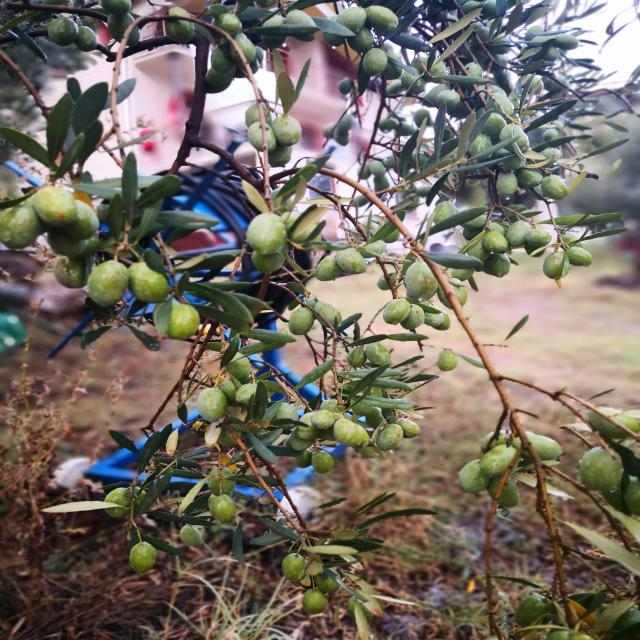Healthy: (0, 186, 98, 288), (286, 400, 369, 473), (460, 220, 551, 277), (458, 432, 522, 507), (578, 442, 640, 516), (336, 6, 398, 79), (383, 262, 449, 330), (88, 260, 170, 306), (282, 553, 340, 614), (212, 13, 263, 73), (315, 239, 386, 281), (246, 213, 290, 273), (543, 233, 592, 286), (47, 14, 109, 55), (497, 169, 571, 200), (206, 38, 245, 93), (265, 111, 302, 167), (289, 298, 342, 335), (206, 468, 238, 523), (100, 0, 140, 42), (166, 302, 201, 343), (515, 594, 556, 628), (197, 387, 230, 422), (346, 342, 392, 367), (430, 200, 465, 232), (435, 89, 469, 117), (245, 104, 264, 152), (130, 541, 157, 573), (180, 524, 204, 547), (436, 349, 458, 371), (127, 25, 142, 48)
